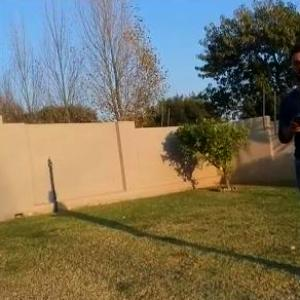follow: (269, 39, 299, 291)
